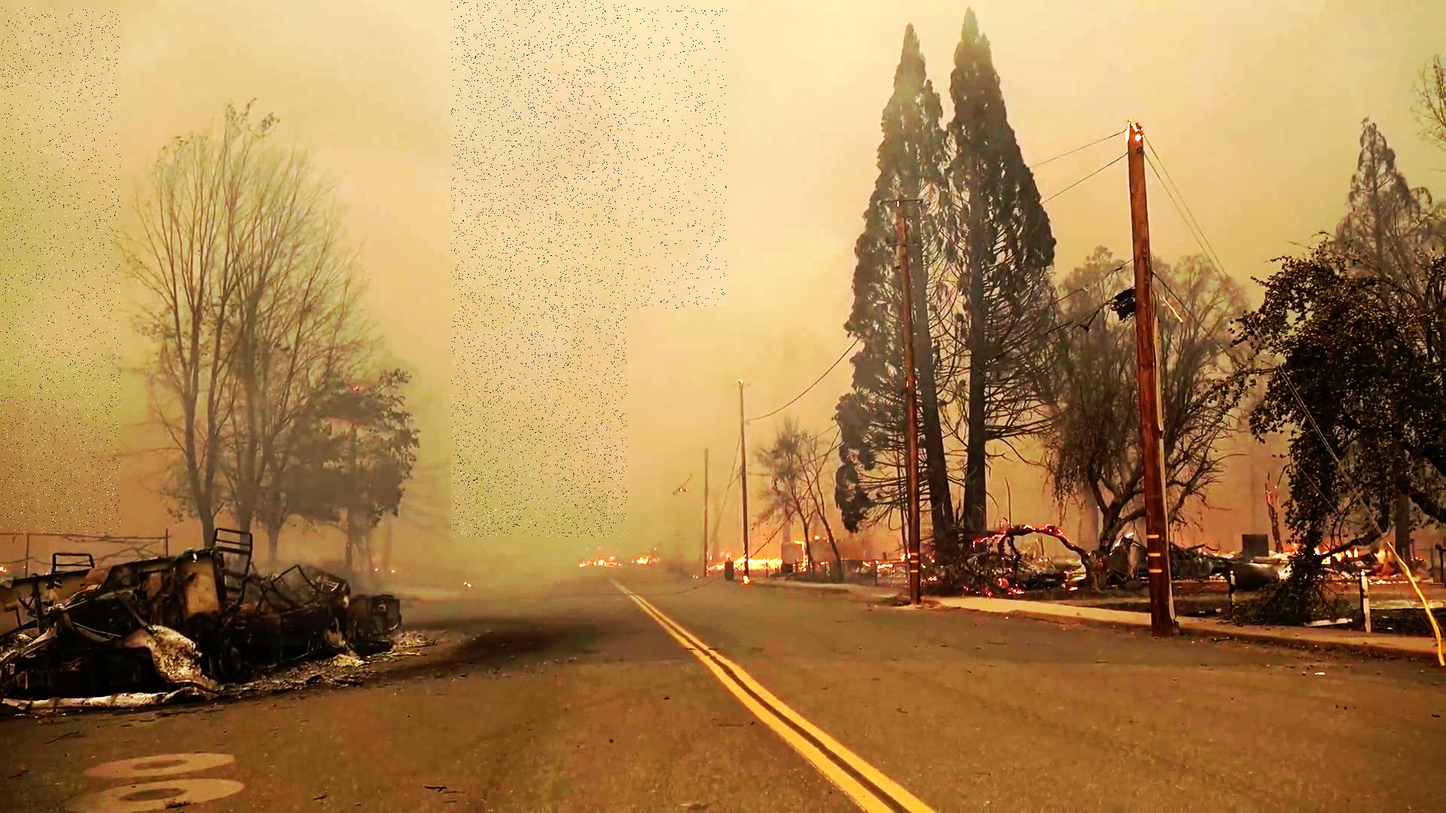smoke: (451, 0, 627, 537), (462, 6, 727, 309), (0, 8, 121, 535)
